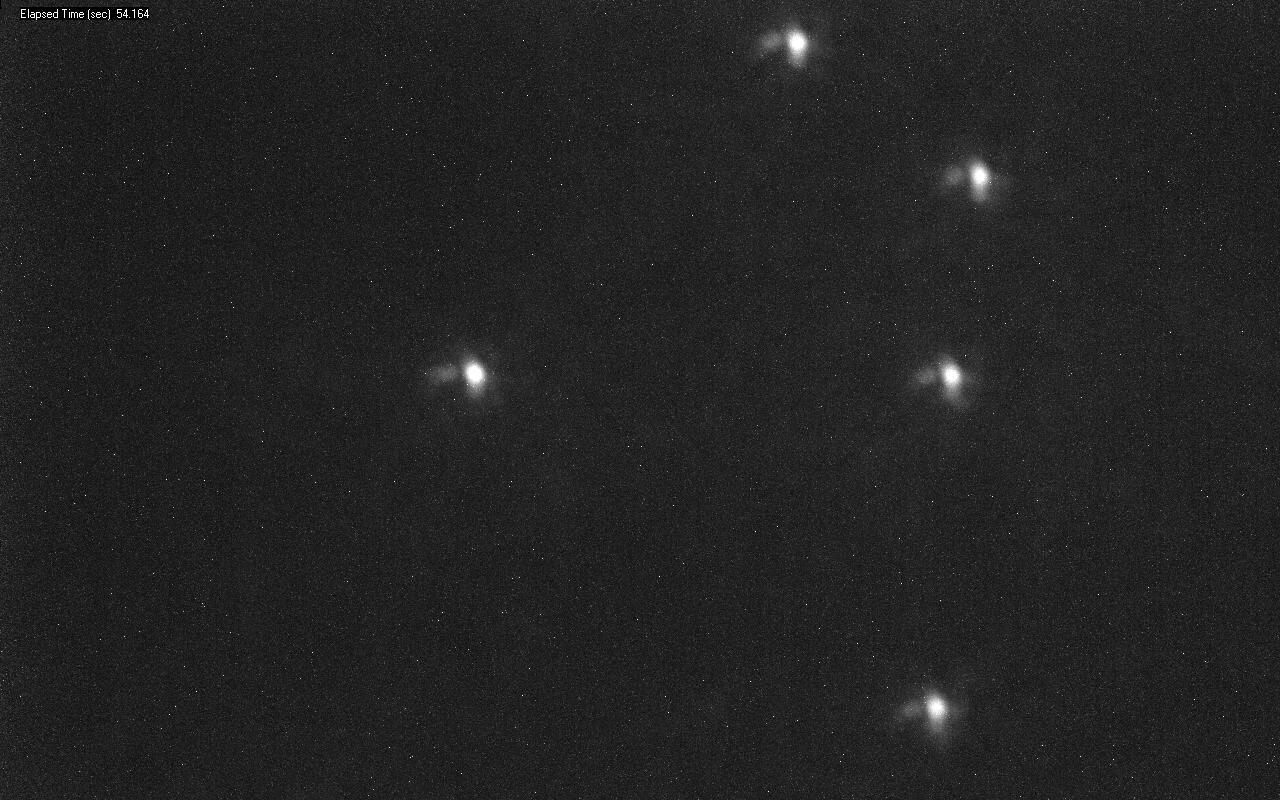Bead: (922, 358, 967, 398), (921, 693, 952, 723), (783, 29, 808, 63), (970, 164, 992, 196), (462, 362, 484, 387)
